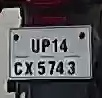1: (51, 38, 58, 55)
3: (65, 60, 76, 75)
4: (58, 37, 70, 55), (55, 61, 67, 75)
5: (37, 61, 45, 76)
7: (46, 60, 55, 75)
C: (15, 62, 22, 76)
P: (40, 35, 50, 55)
U: (31, 39, 40, 54)
X: (25, 61, 33, 75)
